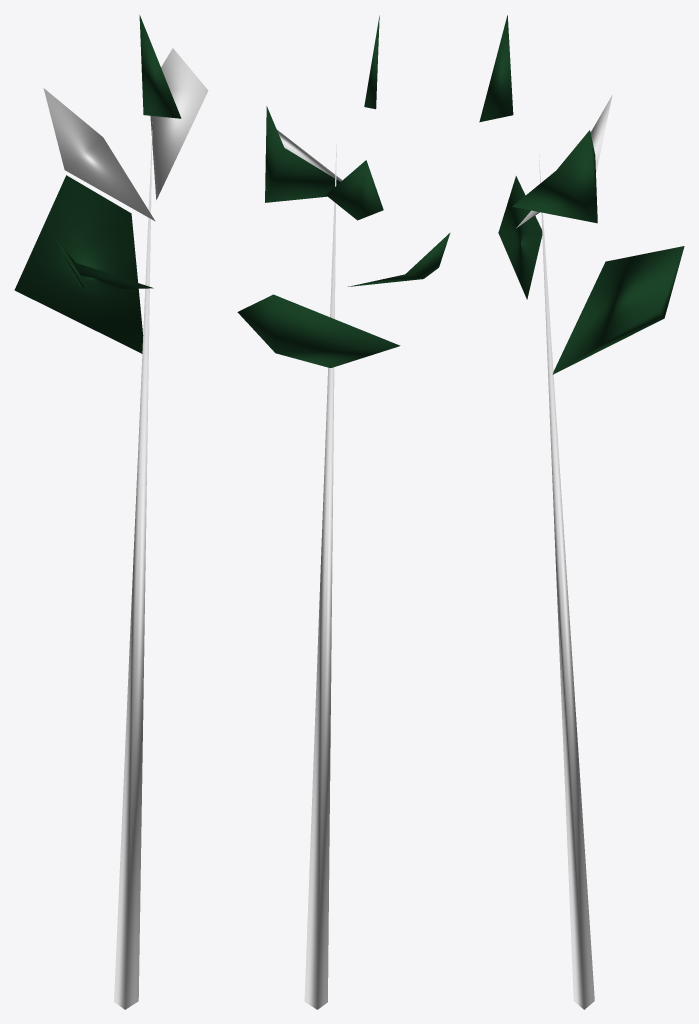
File: pine3Snow_lowest.glb
3 views of the same model, side by side, from view 1: azimuth 30°, elevation 25°; view 2: azimuth 150°, elevation 25°; view 3: azimuth 270°, elevation 25° (orthographic). The views are drawn at different scales.
Parts seen in each view (by area): view 1: Cube.001; view 2: Cube.001; view 3: Cube.001.
Part boxes in pixels (left/top/right/bottom): Cube.001: left=14, top=15, right=208, bottom=1009; Cube.001: left=237, top=15, right=450, bottom=1009; Cube.001: left=479, top=15, right=684, bottom=1009.
Size of the model in its own units: 4.33 by 24.43 by 4.65.
